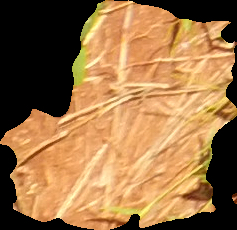soil: (3, 2, 236, 228)
